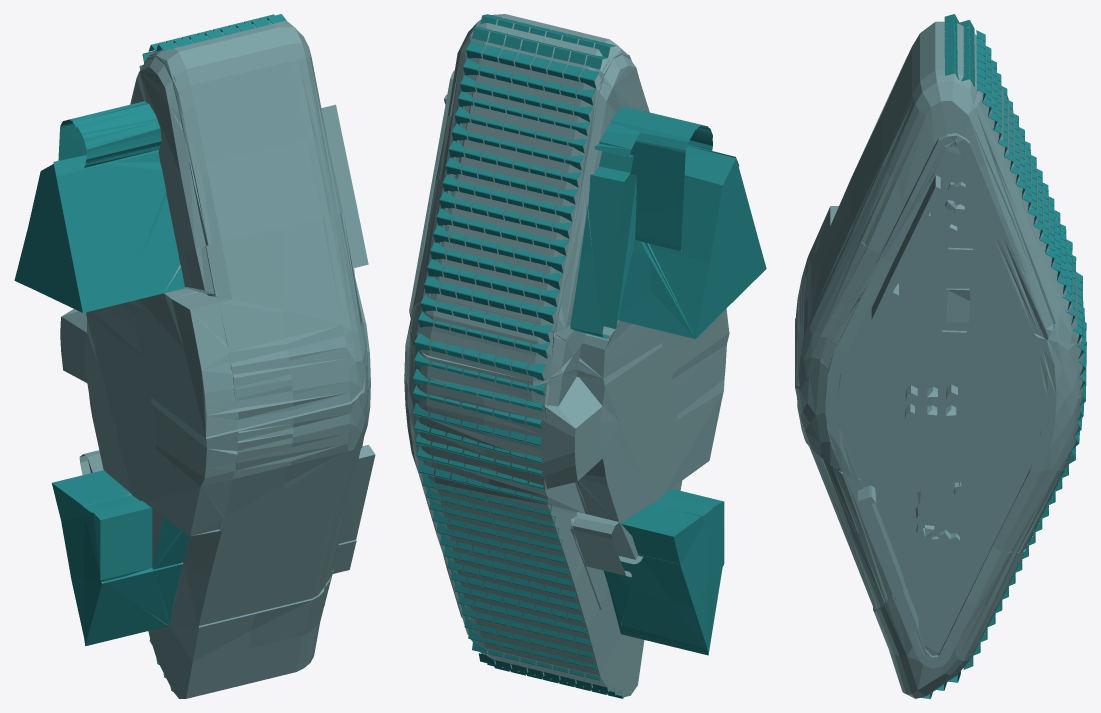
Rendered from building.fbx.
3 renders of one model, left to right at view 1: azimuth 30°, elevation 25°; view 2: azimuth 150°, elevation 25°; view 3: azimuth 270°, elevation 25°, orthographic. The views are drawn at different scales.
Parts seen in each view (by area): view 1: HosptialWithHalfSheets; view 2: HosptialWithHalfSheets; view 3: HosptialWithHalfSheets.
Boxes of the visible parts, left/top/right/bottom form: HosptialWithHalfSheets: left=14, top=14, right=375, bottom=698; HosptialWithHalfSheets: left=404, top=14, right=766, bottom=698; HosptialWithHalfSheets: left=795, top=14, right=1086, bottom=698.
Size of the model in its own units: 13.34 by 31.68 by 14.54.
